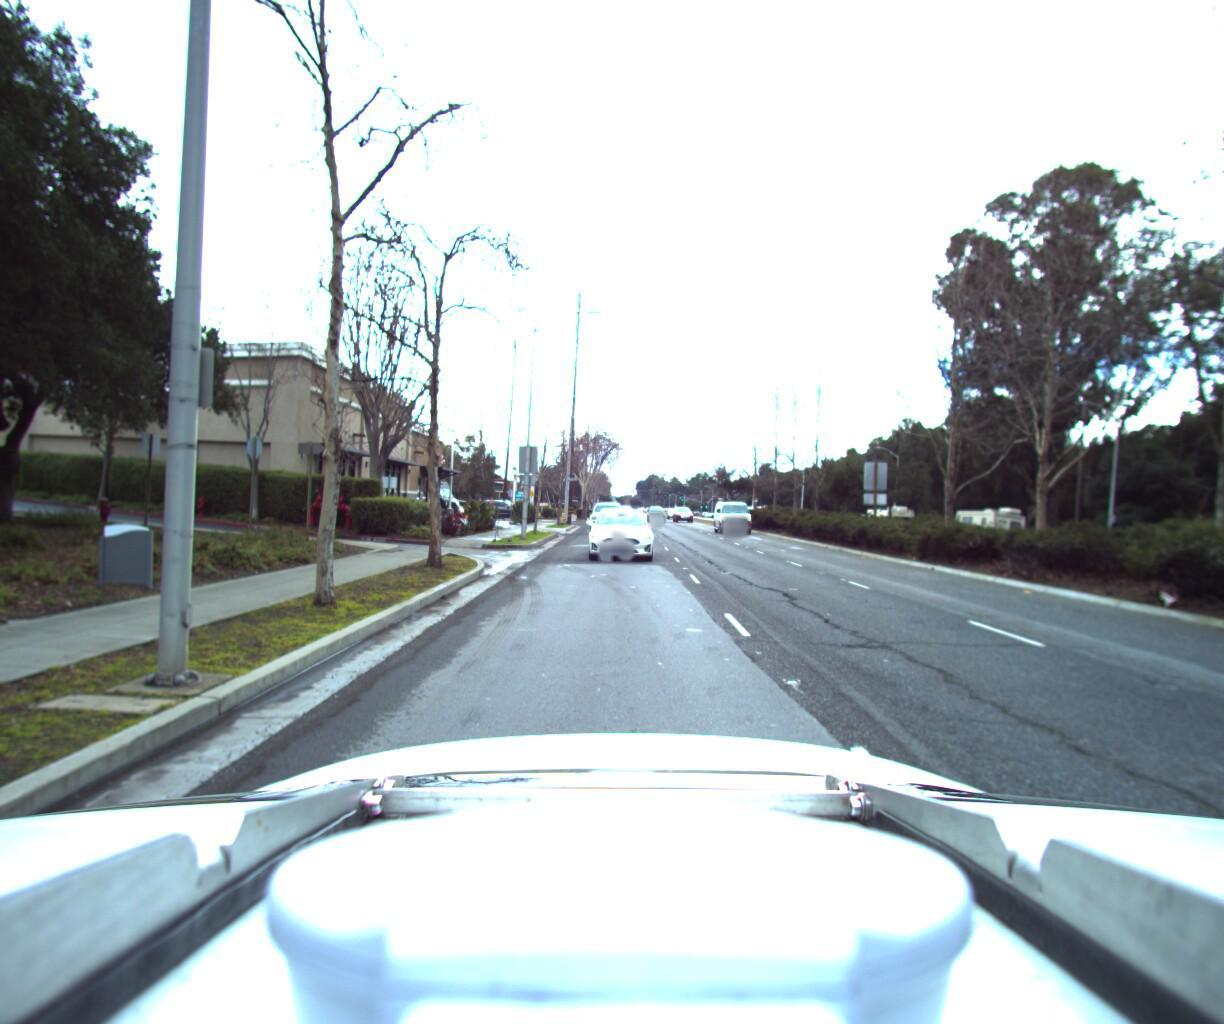car: (579, 497, 653, 555), (711, 487, 758, 530), (672, 499, 695, 517)
other_vehicle: (950, 497, 1030, 539), (861, 491, 919, 524)
